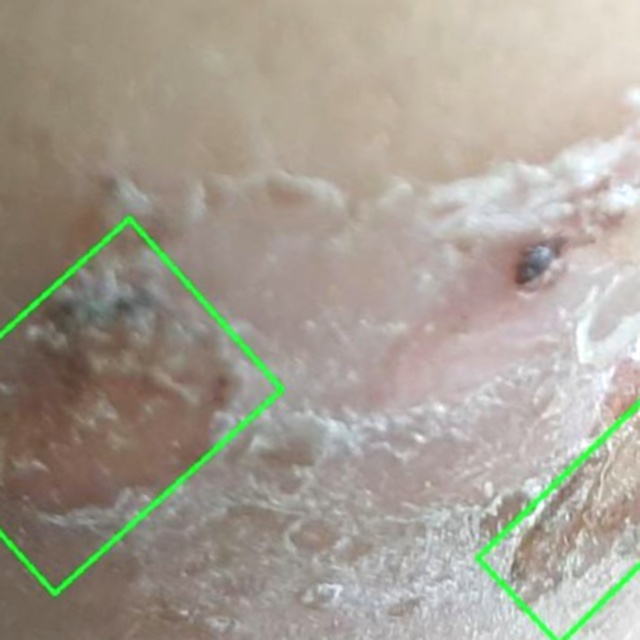Contact Dermatitis: (0, 219, 281, 594), (460, 296, 639, 639)
